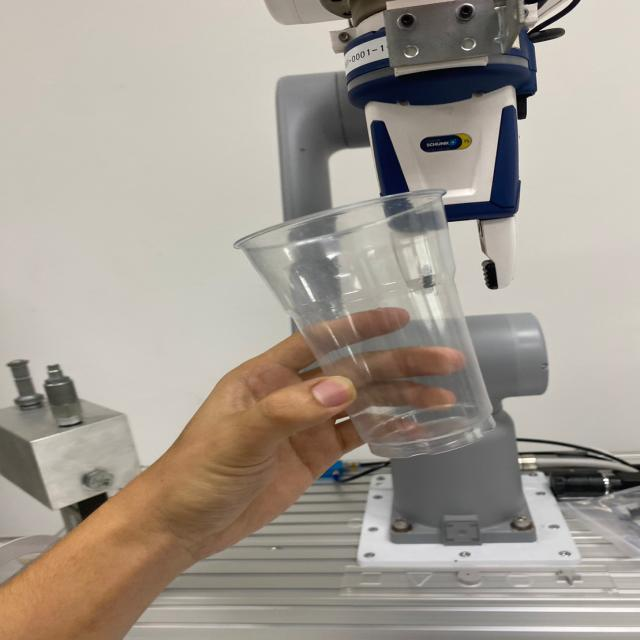glass: (230, 180, 501, 461)
